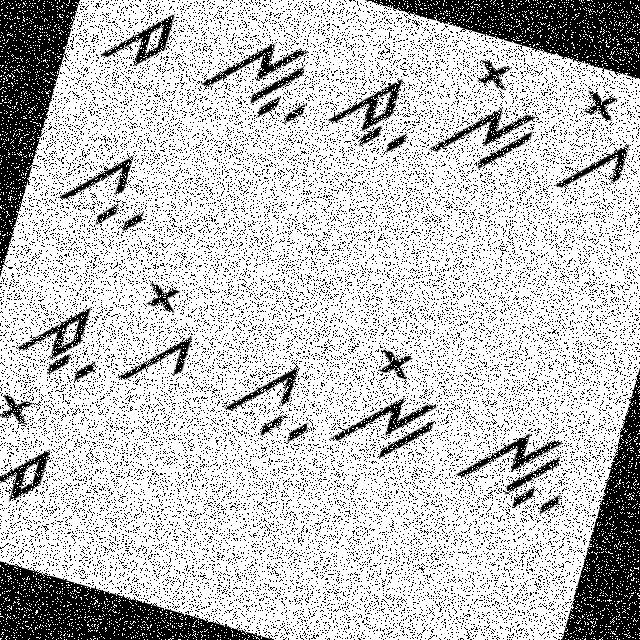gah: (44, 128, 170, 245), (210, 342, 330, 458)
go: (113, 268, 216, 400), (545, 79, 639, 218)
ngah: (194, 8, 334, 142), (442, 406, 581, 532)
ngo: (324, 331, 461, 478), (427, 41, 554, 188)
tah: (2, 265, 121, 391), (316, 51, 430, 168)
to: (0, 383, 79, 524), (80, 0, 205, 87)
